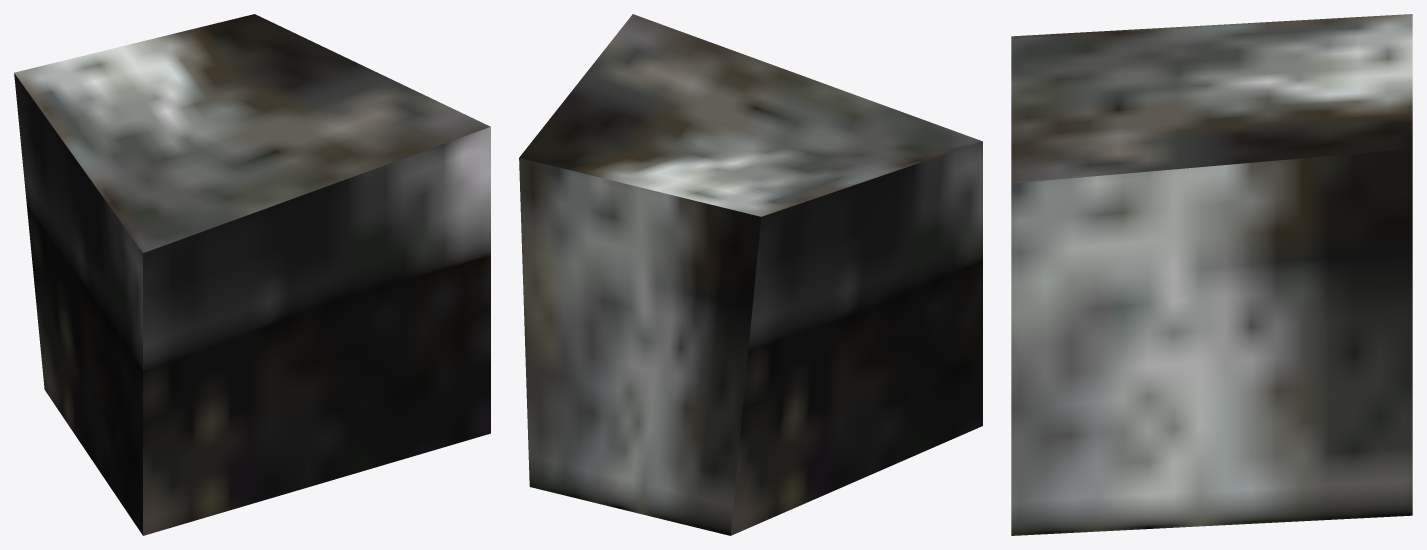
The model's file is USA - Base Infrastructure - Power Plant - Damage State 11 - ABPWRPLANT_d11.glb.
3 views of the same model, side by side, from view 1: azimuth 30°, elevation 25°; view 2: azimuth 150°, elevation 25°; view 3: azimuth 270°, elevation 25° (orthographic). The views are drawn at different scales.
Parts seen in each view (by area): view 1: ABPWRPLANT_D11; view 2: ABPWRPLANT_D11; view 3: ABPWRPLANT_D11.
Boxes of the visible parts, x1,y1,x2,y2 form: ABPWRPLANT_D11: (14, 14, 490, 535); ABPWRPLANT_D11: (519, 14, 982, 535); ABPWRPLANT_D11: (1011, 14, 1412, 535).
Bounding box in the file's own units: 4.31 × 3.84 × 3.75.
1 material, 1 textured.
